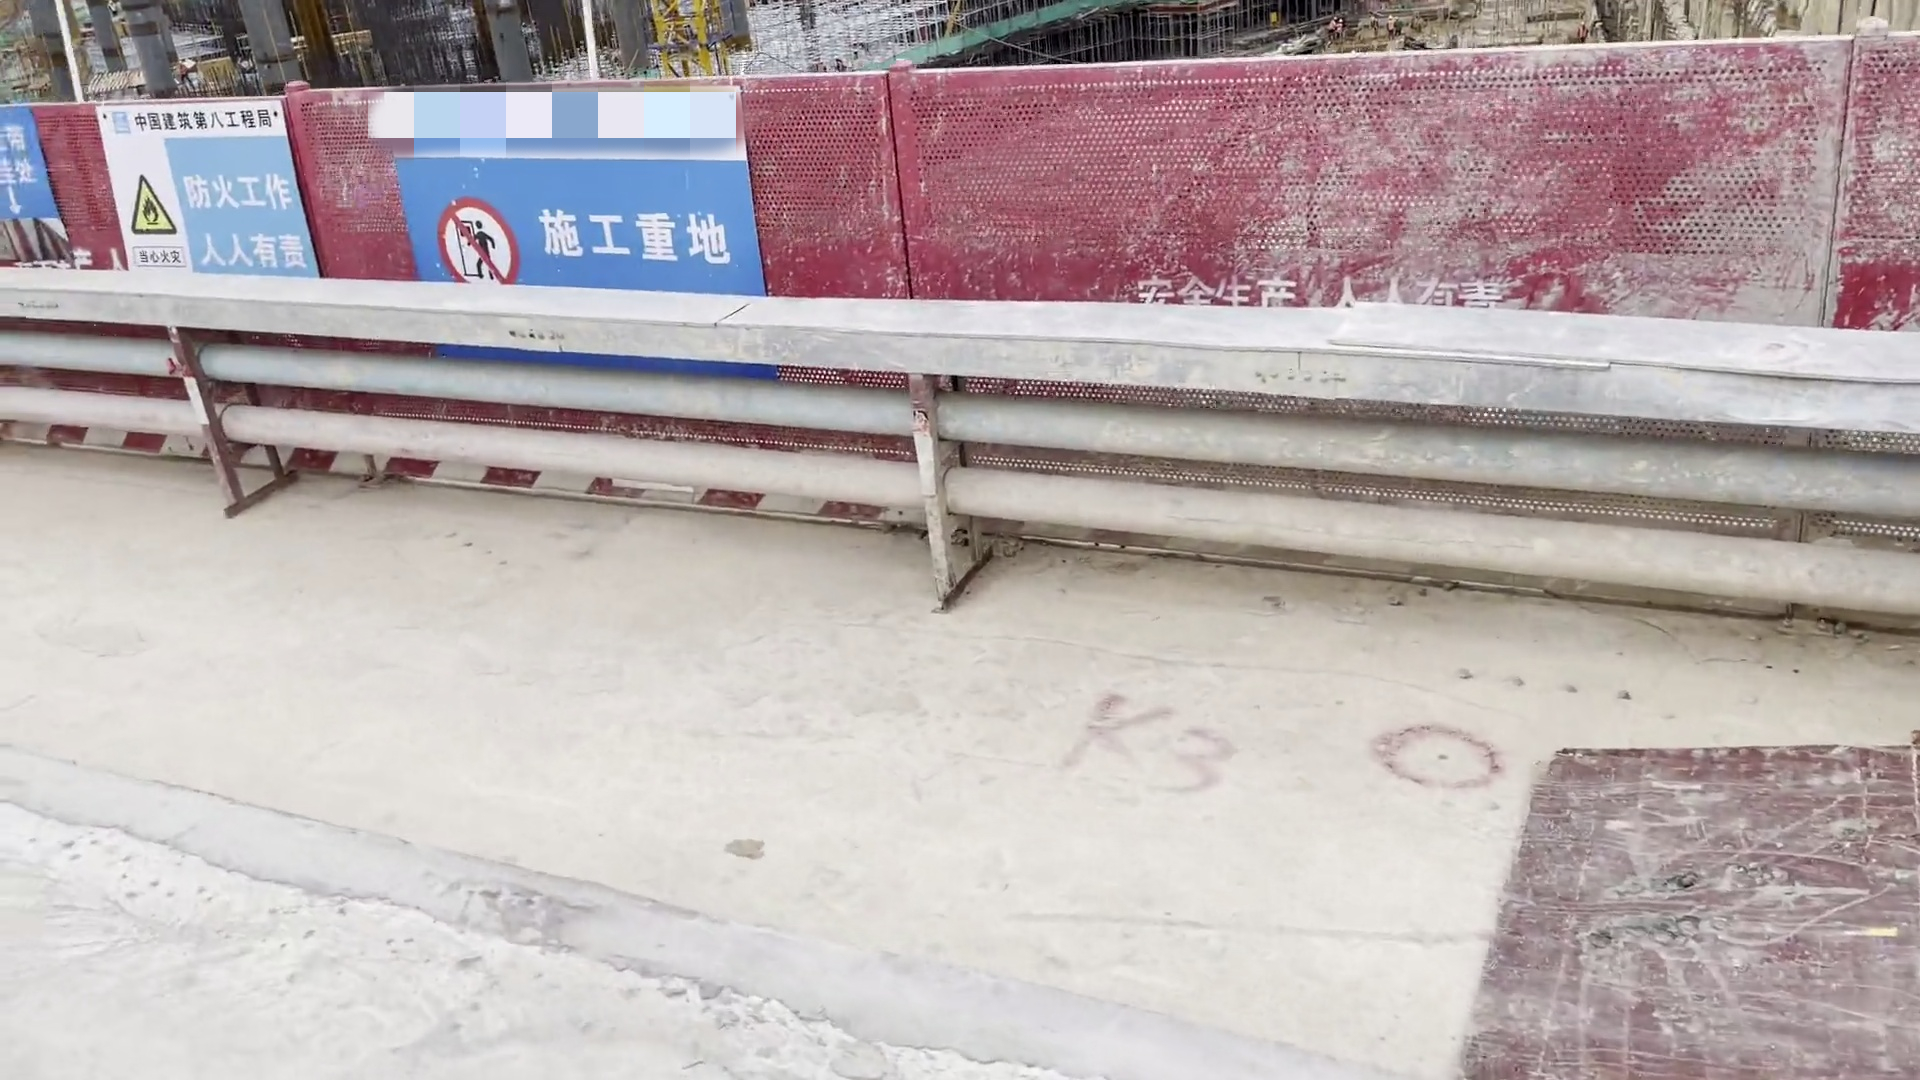board: (1443, 707, 1920, 1071)
fence: (647, 26, 1920, 363), (1, 73, 665, 313)
slogan: (367, 62, 822, 404), (84, 73, 344, 309), (1, 91, 76, 251)
